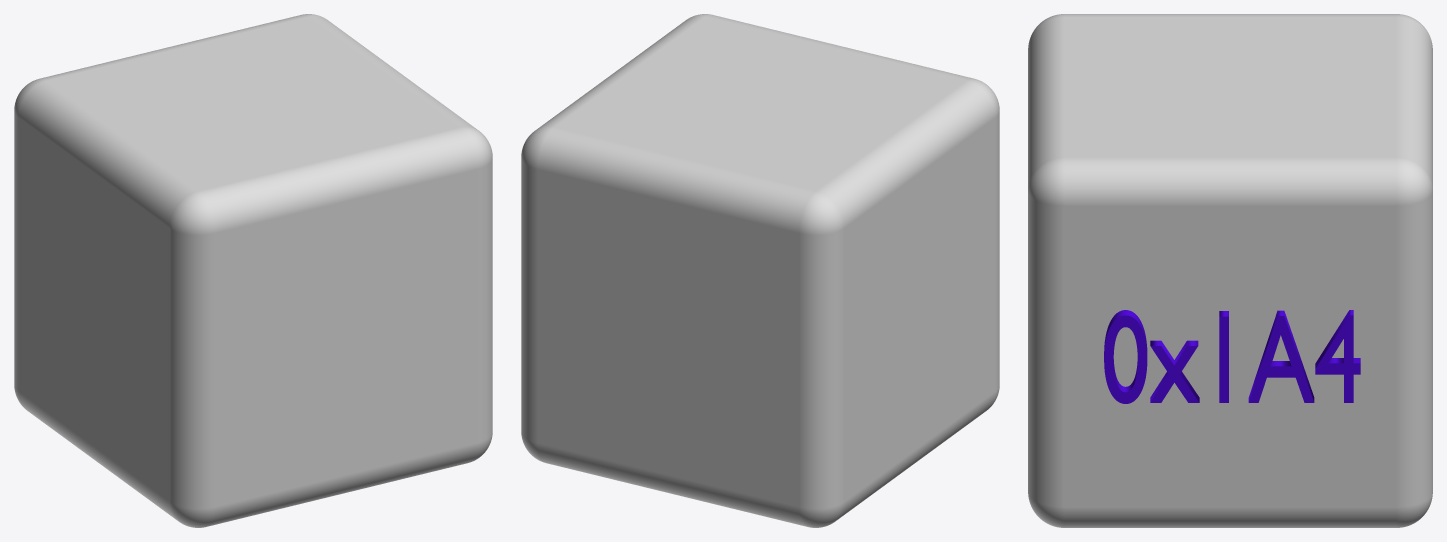
The model's file is Instr21.fbx.
The picture shows the model from 3 angles, left to right: view 1: azimuth 30°, elevation 25°; view 2: azimuth 150°, elevation 25°; view 3: azimuth 270°, elevation 25°; orthographic projection. The views are drawn at different scales.
Parts seen in each view (by area): view 1: Cube; view 2: Cube; view 3: Cube, Text.
Part boxes in pixels (x1,y1,x2,y2): Cube: (14,14,492,527); Cube: (521,14,999,527); Cube: (1028,14,1432,527); Text: (1104,310,1360,403).
Bounding box in the file's own units: 69.29 × 67.15 × 67.15.
